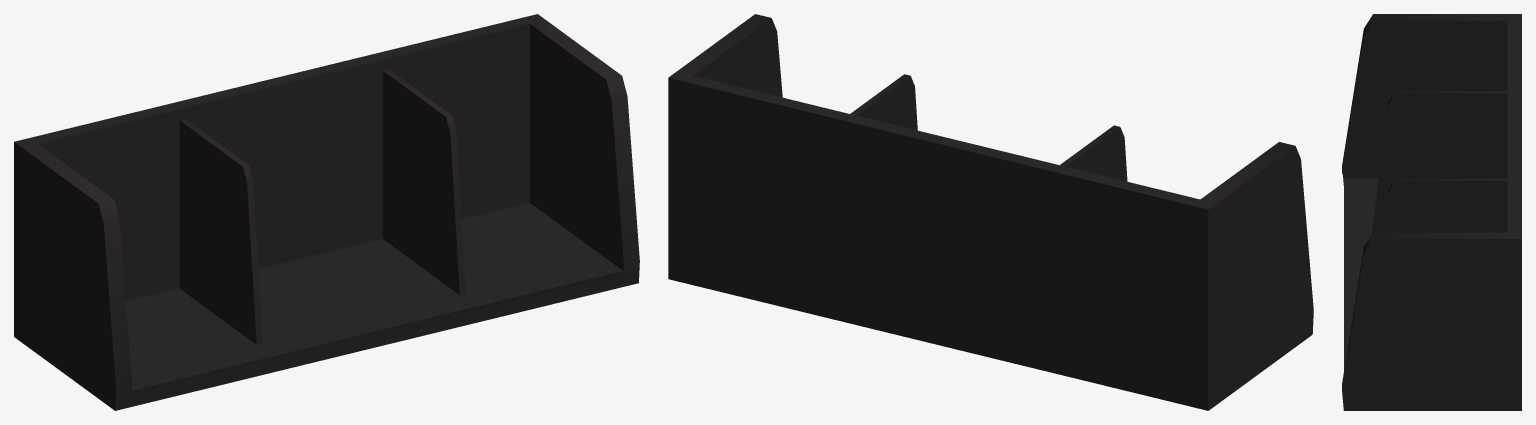
The model's file is shelf2.FBX.
3 renders of one model, left to right at view 1: azimuth 30°, elevation 25°; view 2: azimuth 150°, elevation 25°; view 3: azimuth 270°, elevation 25°, orthographic. The views are drawn at different scales.
Parts seen in each view (by area): view 1: shelf2; view 2: shelf2; view 3: shelf2.
Boxes of the visible parts, <box> form: shelf2: <box>14,14,639,410</box>; shelf2: <box>668,14,1313,410</box>; shelf2: <box>1342,14,1521,410</box>.
Bounding box in the file's own units: 77.14 × 27.48 × 26.06.
